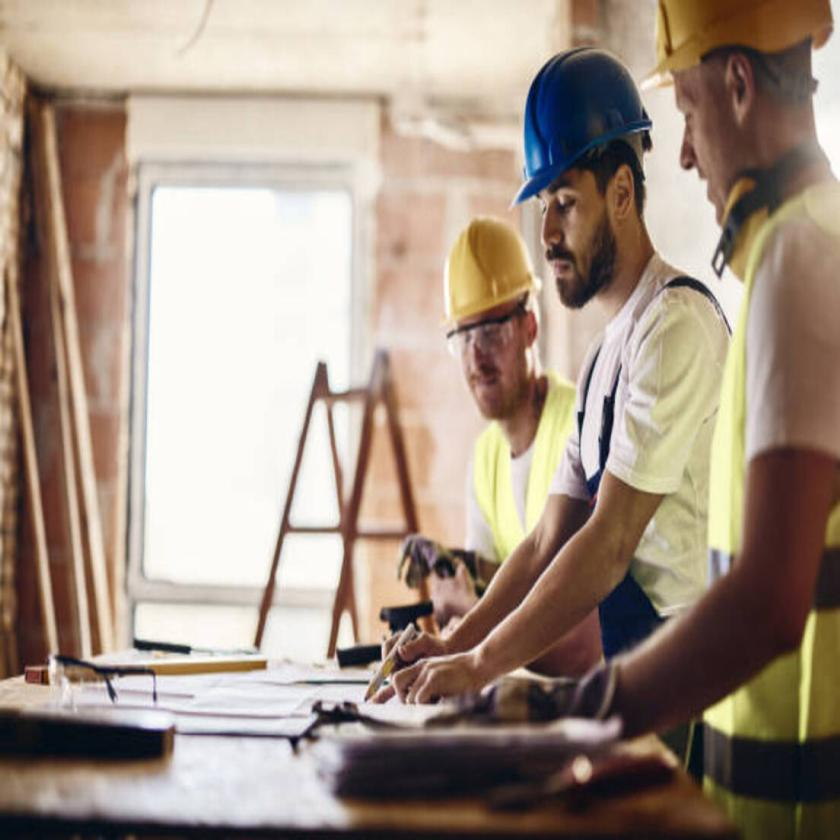Con_casco: (509, 52, 653, 299), (436, 217, 544, 440)
